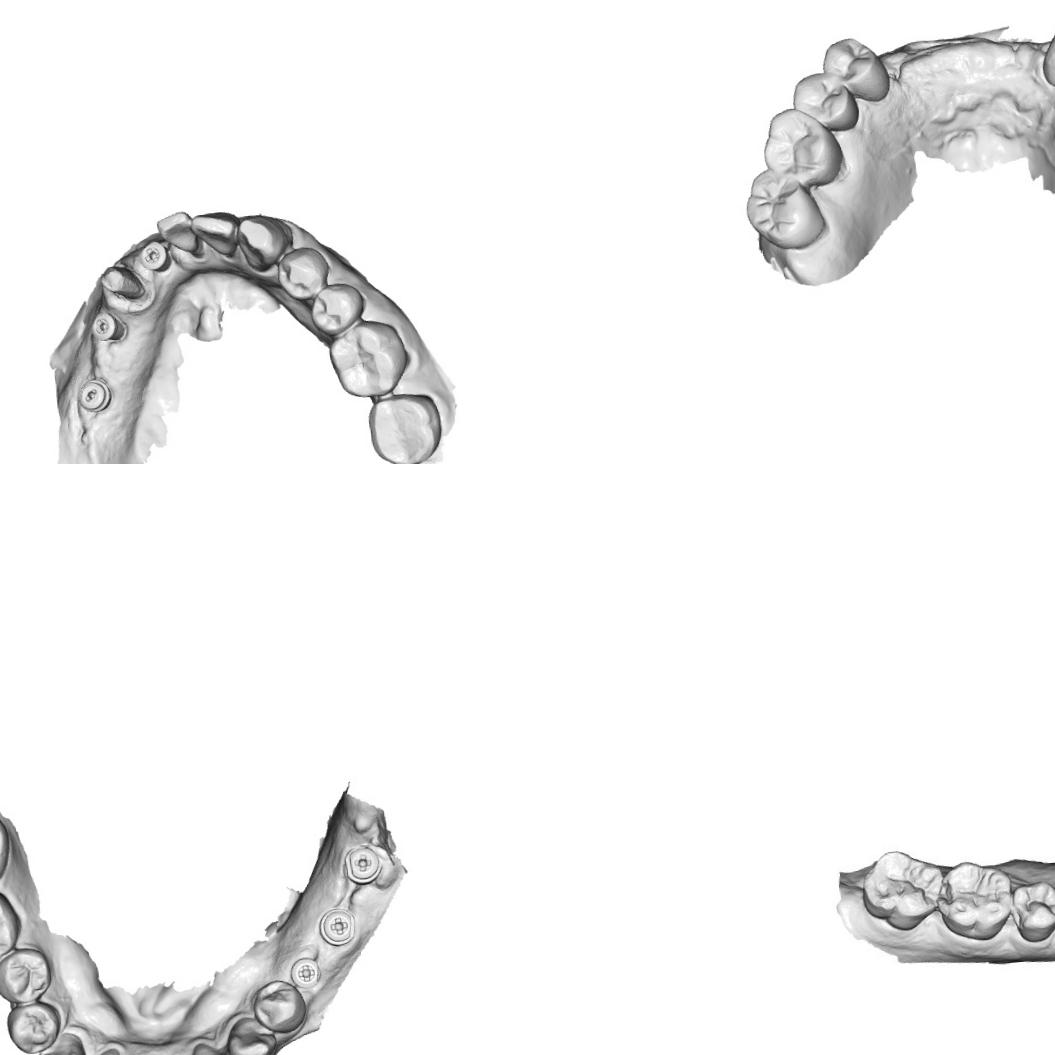canine: (232, 210, 296, 274), (221, 1011, 280, 1055), (26, 1029, 88, 1055), (1036, 9, 1055, 91)
crown: (96, 260, 152, 308)
implant_minus: (73, 374, 116, 415)
implant_plus: (338, 842, 384, 888), (314, 903, 358, 948), (87, 308, 128, 346), (134, 238, 173, 274), (286, 954, 326, 989)
incisor: (187, 208, 241, 260), (152, 209, 200, 256), (185, 1035, 237, 1055)
molar: (857, 840, 946, 934), (757, 102, 846, 192), (740, 164, 827, 254), (324, 314, 412, 400), (933, 853, 1014, 944), (361, 389, 446, 464), (0, 878, 25, 972)
premolar: (816, 31, 891, 106), (790, 64, 862, 135), (0, 942, 60, 1008), (249, 974, 309, 1038), (2, 997, 67, 1055), (306, 278, 368, 338), (272, 244, 333, 304), (1006, 877, 1055, 944)
